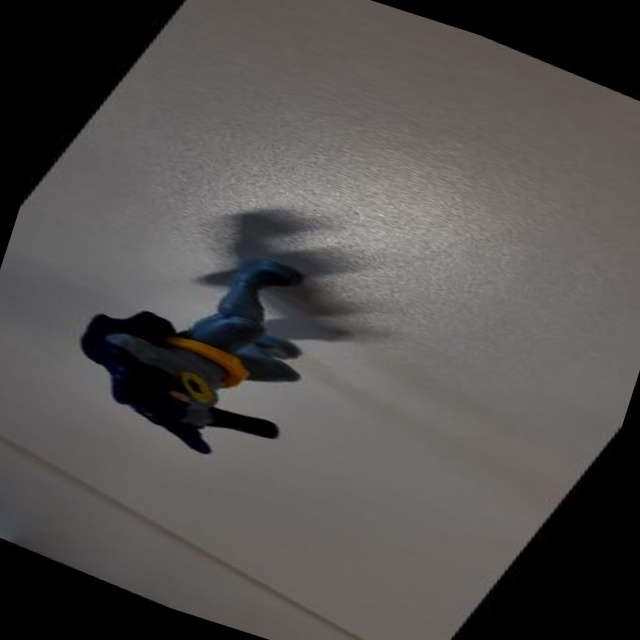Batman: (0, 152, 450, 527)
